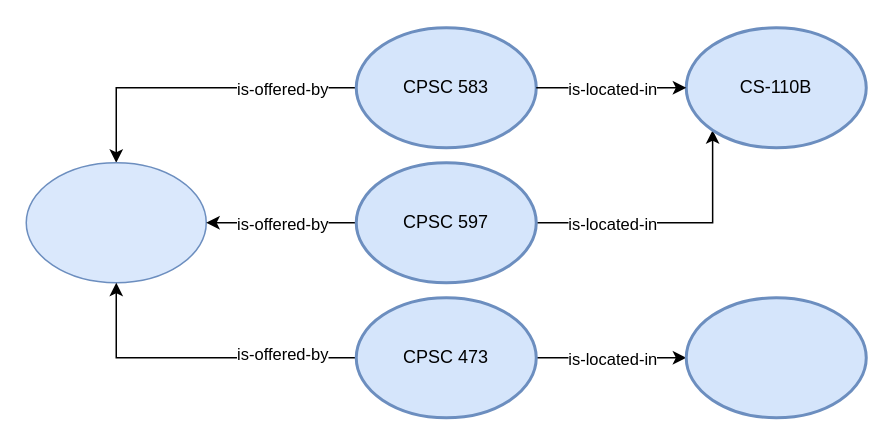
Some shapes in this 894 by 444 pixel diagram are drawn without their labels. Here are the shapes that lost their labels. From the top down, the box of each, then its label:
(25, 161, 206, 283): ComputerScience
(684, 296, 867, 418): CS-406
